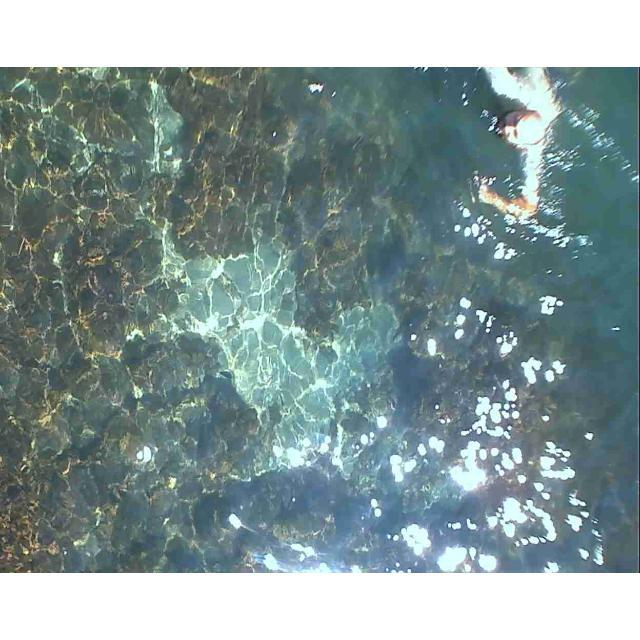human: (390, 67, 583, 234)
